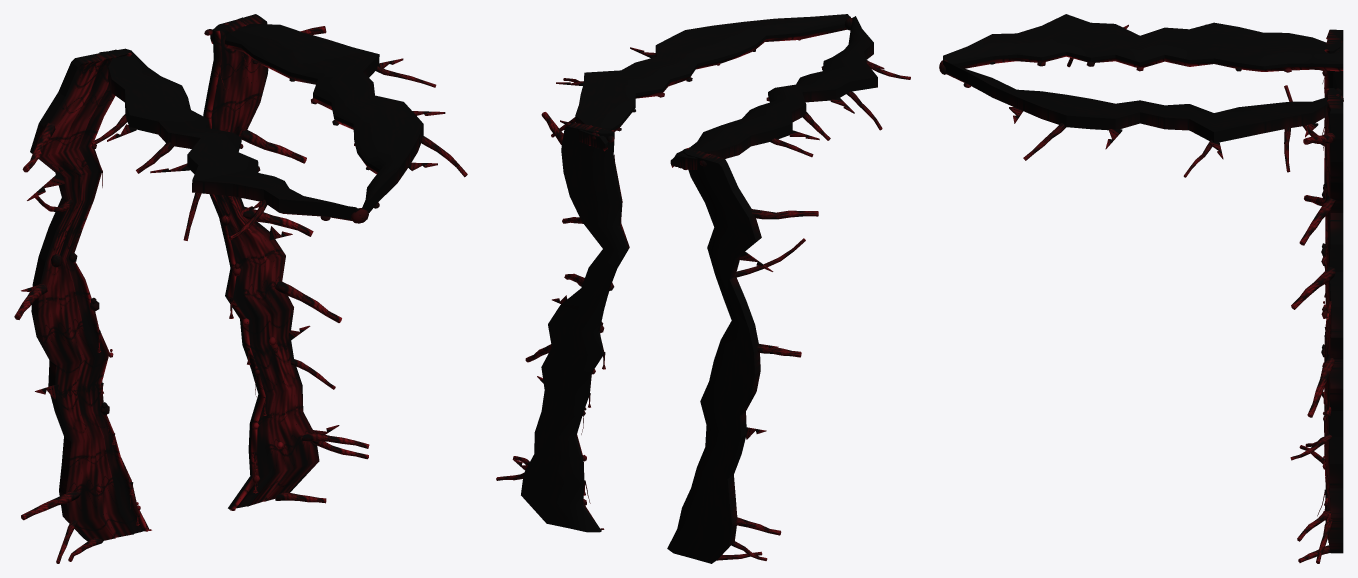
Rendered from crack_decor_v01.glb.
The picture shows the model from 3 angles, left to right: view 1: azimuth 30°, elevation 25°; view 2: azimuth 150°, elevation 25°; view 3: azimuth 270°, elevation 25°; orthographic projection. The views are drawn at different scales.
Parts seen in each view (by area): view 1: CrackDecor_Mesh; view 2: CrackDecor_Mesh; view 3: CrackDecor_Mesh.
Part boxes in pixels (bbox=[...]): CrackDecor_Mesh: bbox=[14, 14, 467, 563]; CrackDecor_Mesh: bbox=[496, 14, 910, 563]; CrackDecor_Mesh: bbox=[939, 14, 1343, 563].
Size of the model in its own units: 2.5 by 3.18 by 2.67.
1 material, 1 textured.
